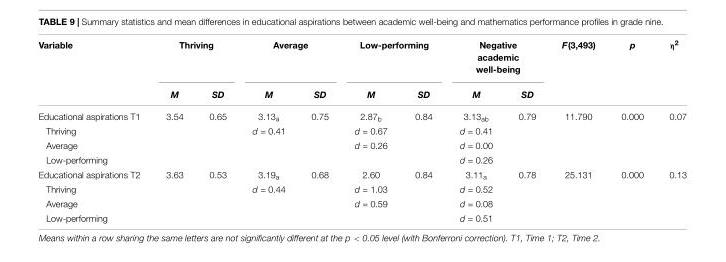table: (37, 37, 686, 222)
table column: (37, 37, 152, 222), (340, 37, 400, 222), (238, 37, 297, 222), (445, 37, 504, 222), (548, 37, 607, 222), (607, 37, 655, 222), (400, 37, 445, 222), (504, 37, 548, 222), (152, 37, 195, 222), (195, 37, 238, 222), (297, 37, 340, 222), (655, 37, 686, 222)
table column header: (37, 37, 686, 104)
table row: (37, 37, 686, 81), (37, 81, 686, 104), (37, 104, 686, 123), (37, 151, 686, 166), (37, 166, 686, 181), (37, 195, 686, 210), (37, 123, 686, 137), (37, 137, 686, 151), (37, 181, 686, 195), (37, 210, 686, 222)
table spanning cell: (37, 37, 152, 104), (340, 37, 445, 81), (445, 37, 548, 81), (238, 37, 340, 81), (548, 37, 607, 104), (152, 37, 238, 81), (607, 37, 655, 104), (655, 37, 686, 104)
